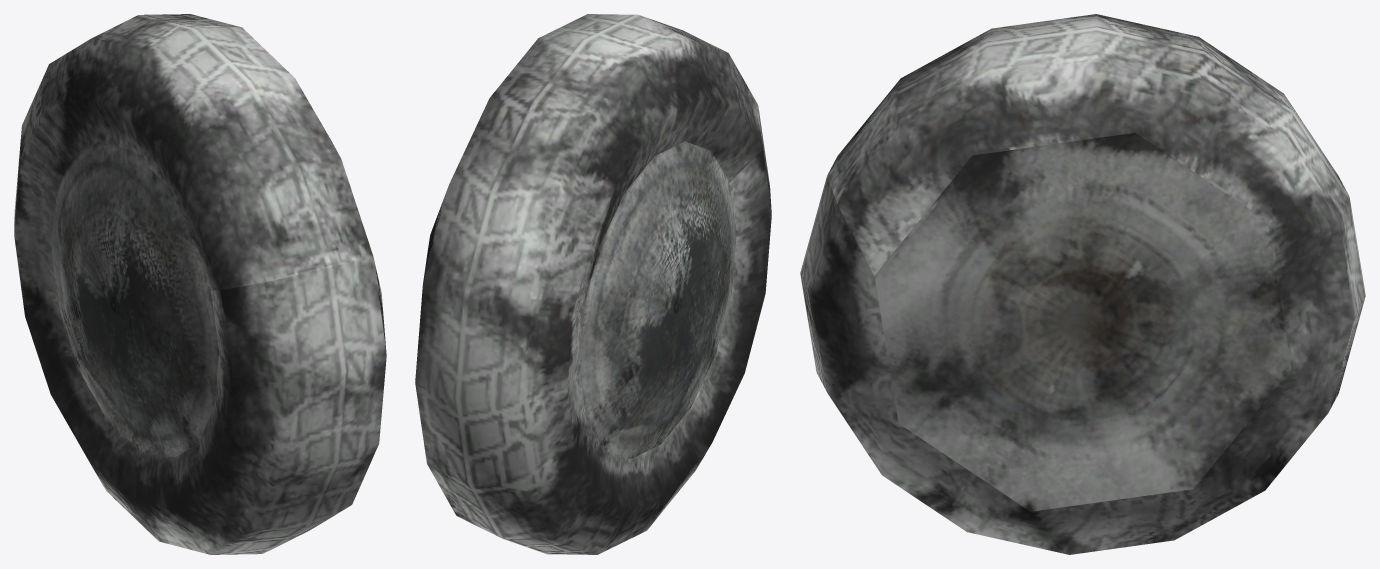
Rendered from Kbtr80.FBX.
3 views of the same model, side by side, from view 1: azimuth 30°, elevation 25°; view 2: azimuth 150°, elevation 25°; view 3: azimuth 270°, elevation 25° (orthographic). The views are drawn at different scales.
Visible parts, largest first — view 1: Wheels; view 2: Wheels; view 3: Wheels.
Part boxes in pixels (x1,y1,x2,y2): Wheels: (14, 14, 386, 554); Wheels: (415, 14, 771, 554); Wheels: (800, 14, 1365, 554).
Size of the model in its own units: 39.01 by 113 by 113.
